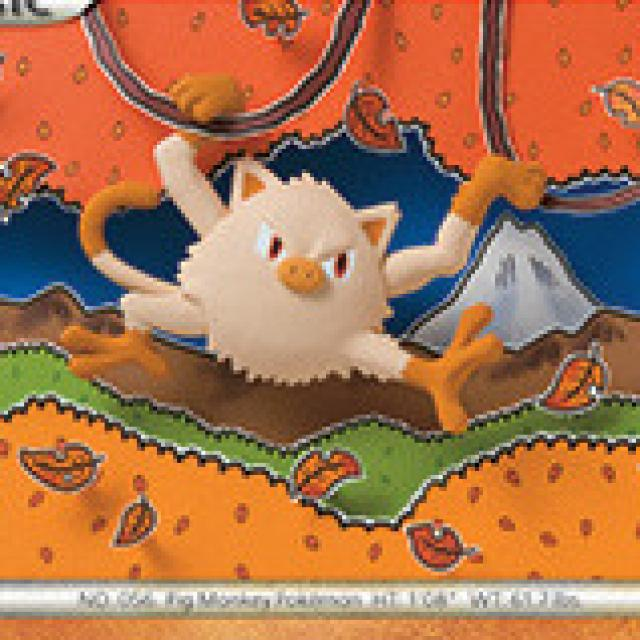Mankey: (132, 117, 481, 383)
